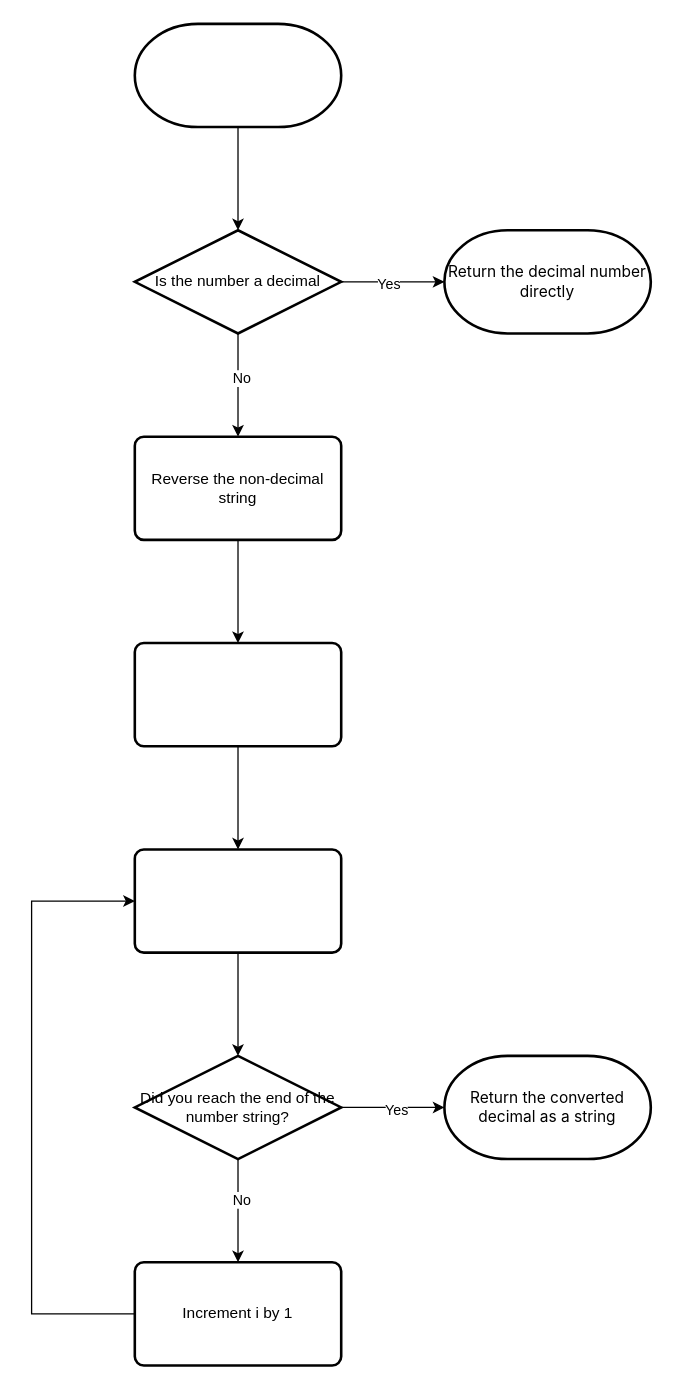
This 675x1388 diagram has some shape labels left out. Here are the shapes that lost their labels. From the top down, the centre of each, then its label:
At point 237,75: "Start converts user's number to decimals".
At point 237,694: "Set i=0".
At point 237,900: "Multiply string[i] by base^i and add to the final answer".
